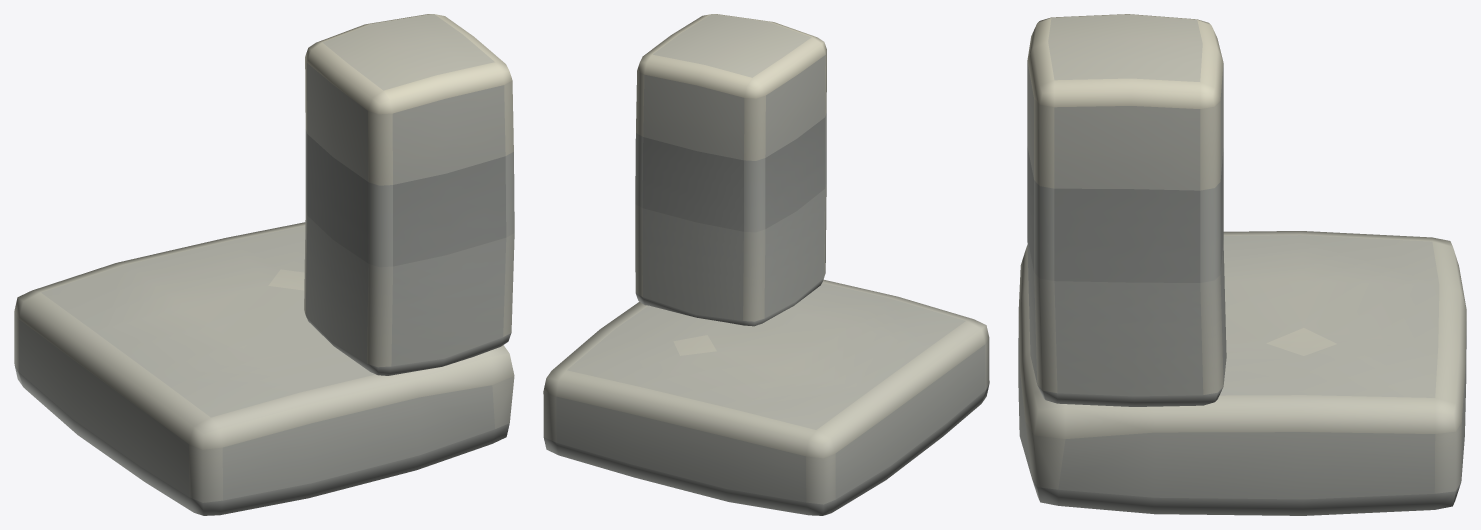
File: ballustrade_ornate1_corner_conc_LOD_setup.fbx
The picture shows the model from 3 angles, left to right: view 1: azimuth 30°, elevation 25°; view 2: azimuth 150°, elevation 25°; view 3: azimuth 270°, elevation 25°; orthographic projection. The views are drawn at different scales.
Parts seen in each view (by area): view 1: ballustrade_ornate1_corner_conc_LOD0; view 2: ballustrade_ornate1_corner_conc_LOD0; view 3: ballustrade_ornate1_corner_conc_LOD0.
Boxes of the visible parts, box(x1,y1,x2,y2) form: ballustrade_ornate1_corner_conc_LOD0: box(14, 14, 514, 515); ballustrade_ornate1_corner_conc_LOD0: box(543, 14, 989, 515); ballustrade_ornate1_corner_conc_LOD0: box(1018, 14, 1466, 515).
Size of what is drawn, in the model's own units: 108 by 120 by 110.
